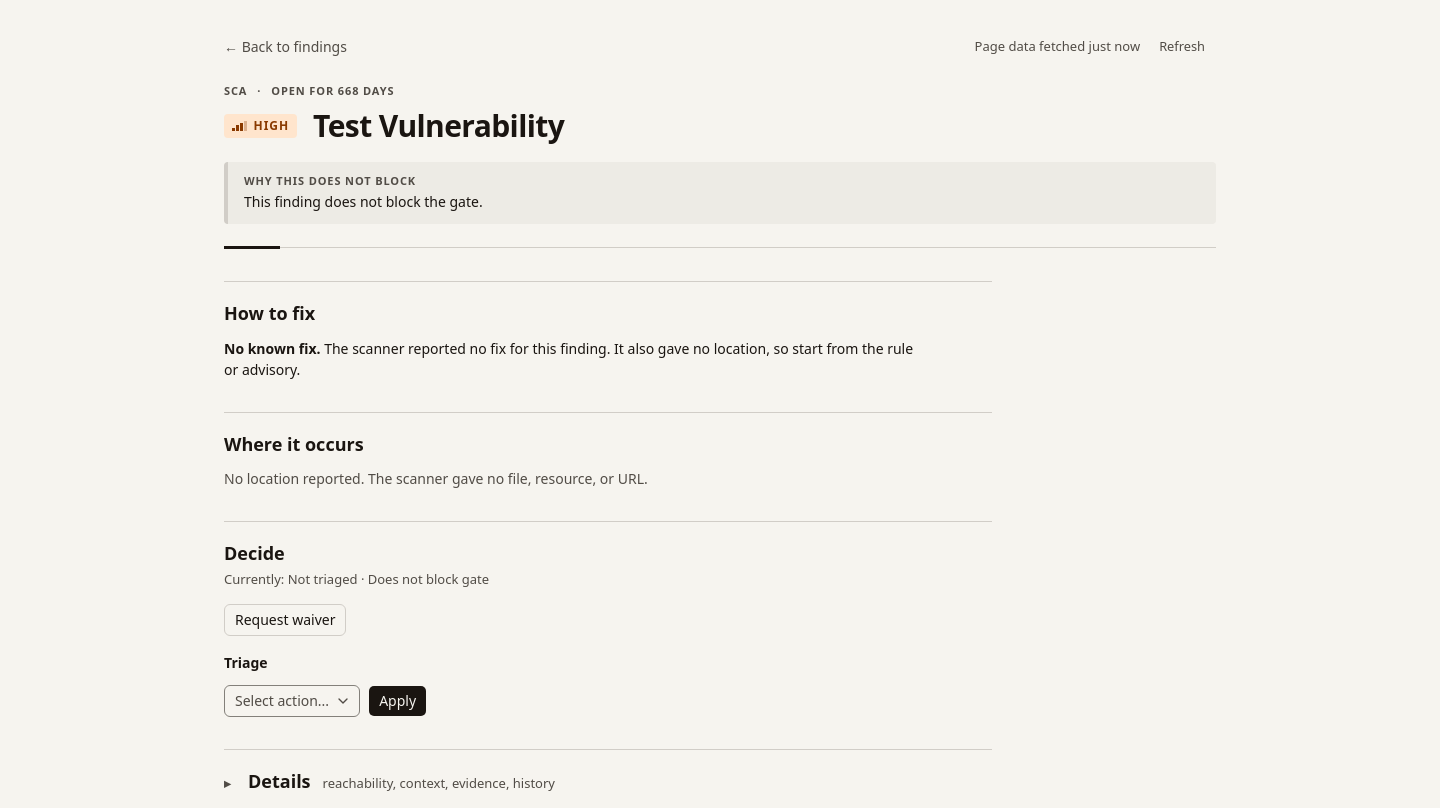
Test: FindingDetail decision flow › confirms a reachability save in a toast and leaves triage untouched
The width and height of the screenshot is (1440, 808).
Expected: the heading "Test Vulnerability" is shown, [313, 109, 564, 142]
Click the button "▸ Details reachability, context, evidence, history".
click(279, 781)  # box [224, 766, 992, 798]
(page scrolled)
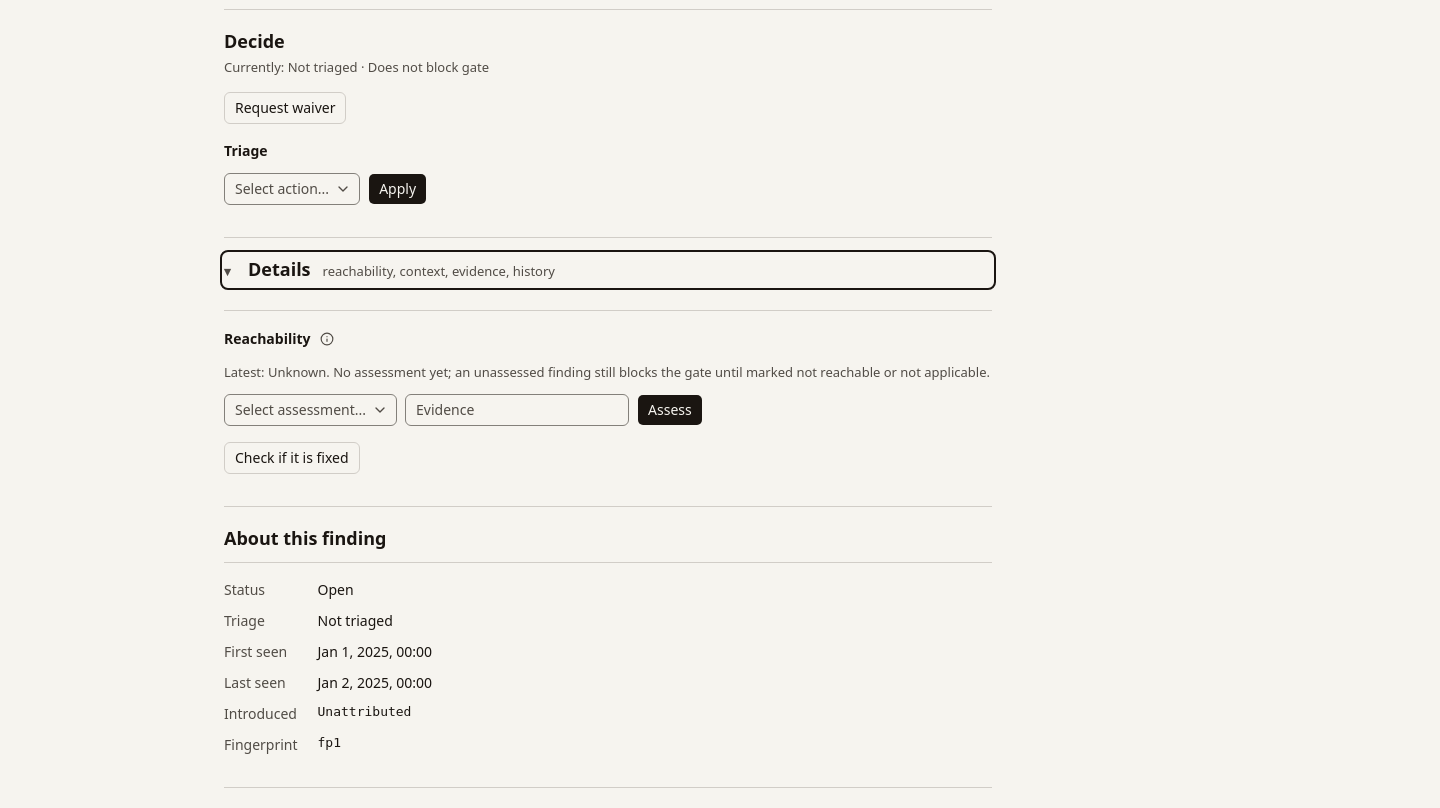
Click the dropdown named "Reachability assessment".
click(310, 410)  # box [224, 394, 397, 426]
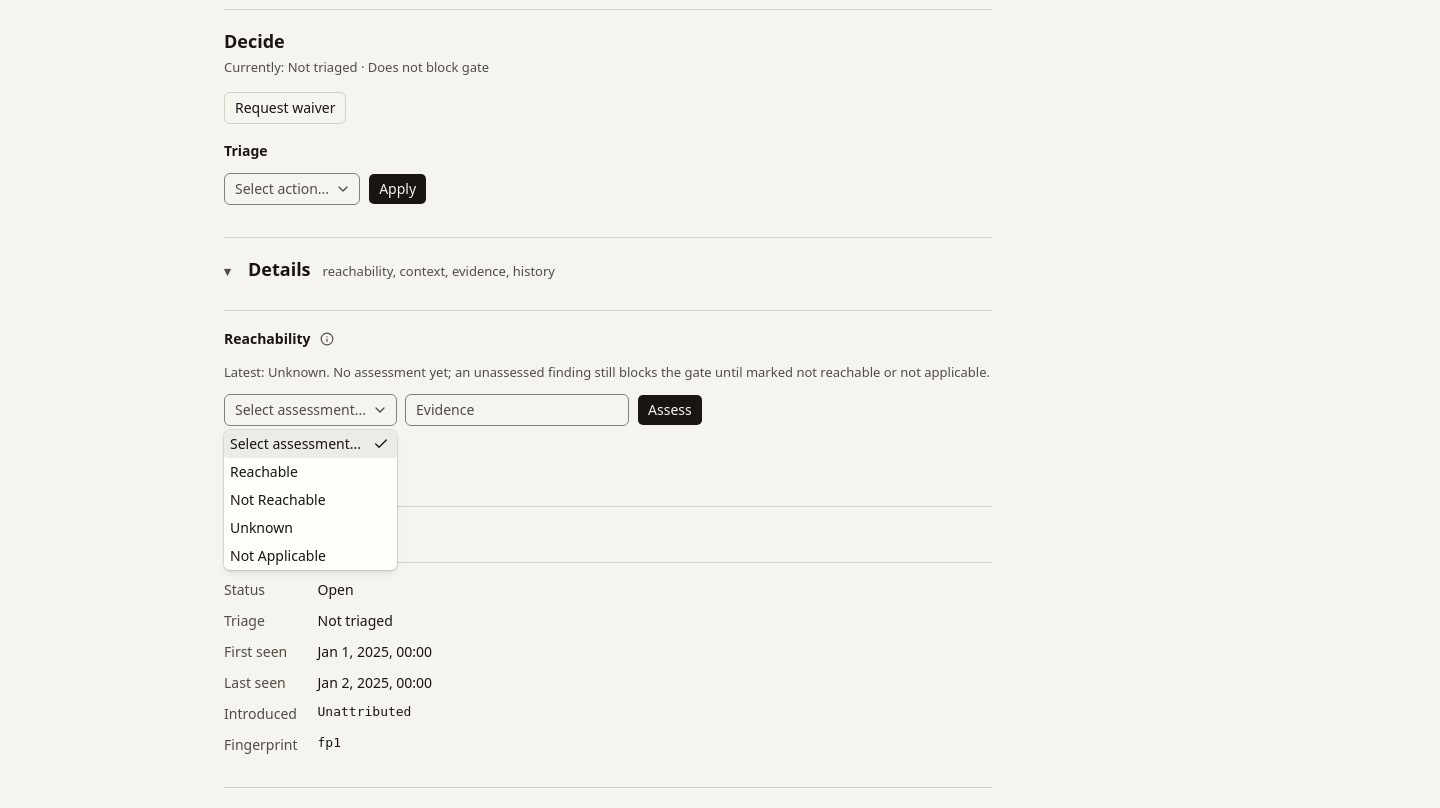
Click the option "Reachable".
click(264, 472)  # box [230, 462, 298, 481]
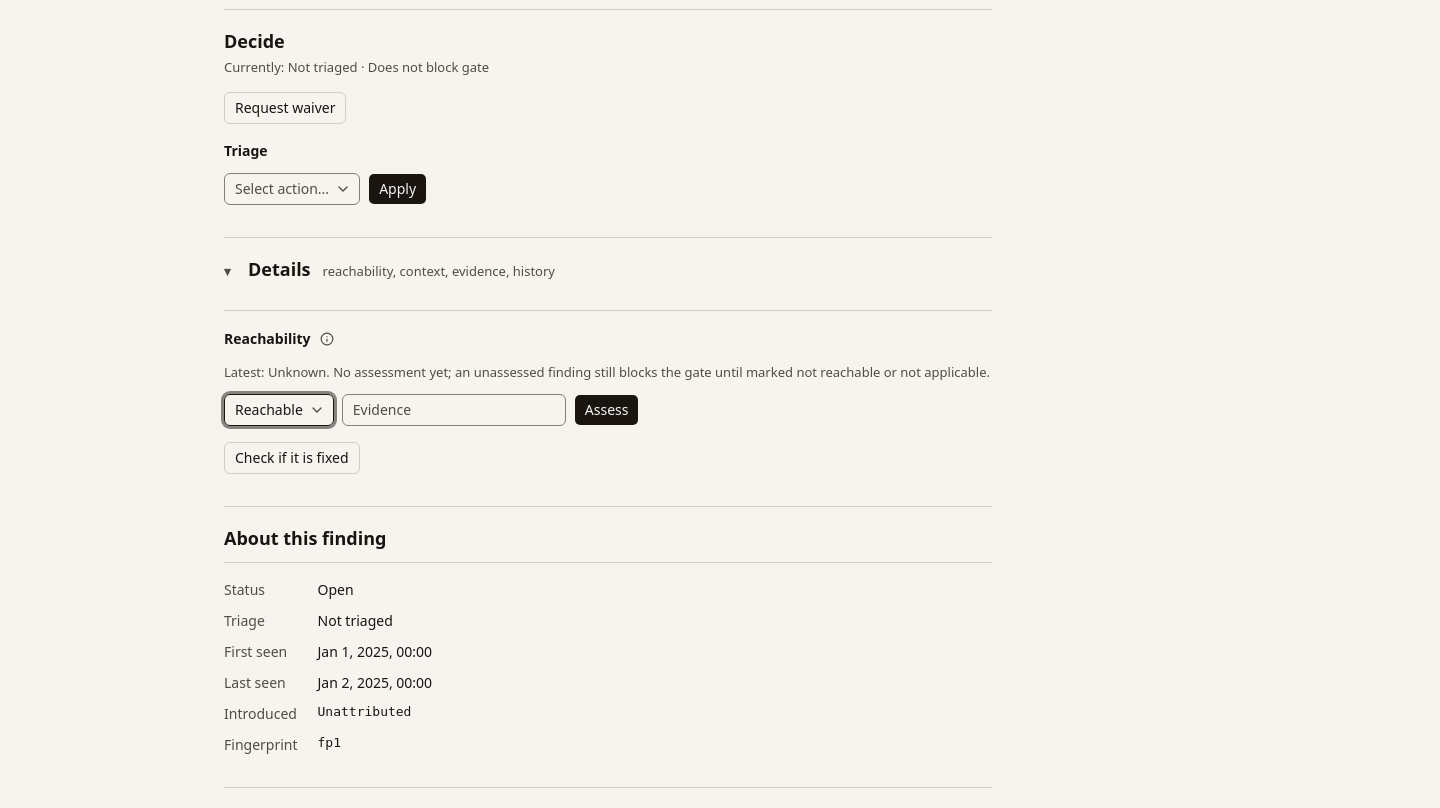
Click the button "Assess".
click(607, 410)  # box [574, 394, 640, 426]
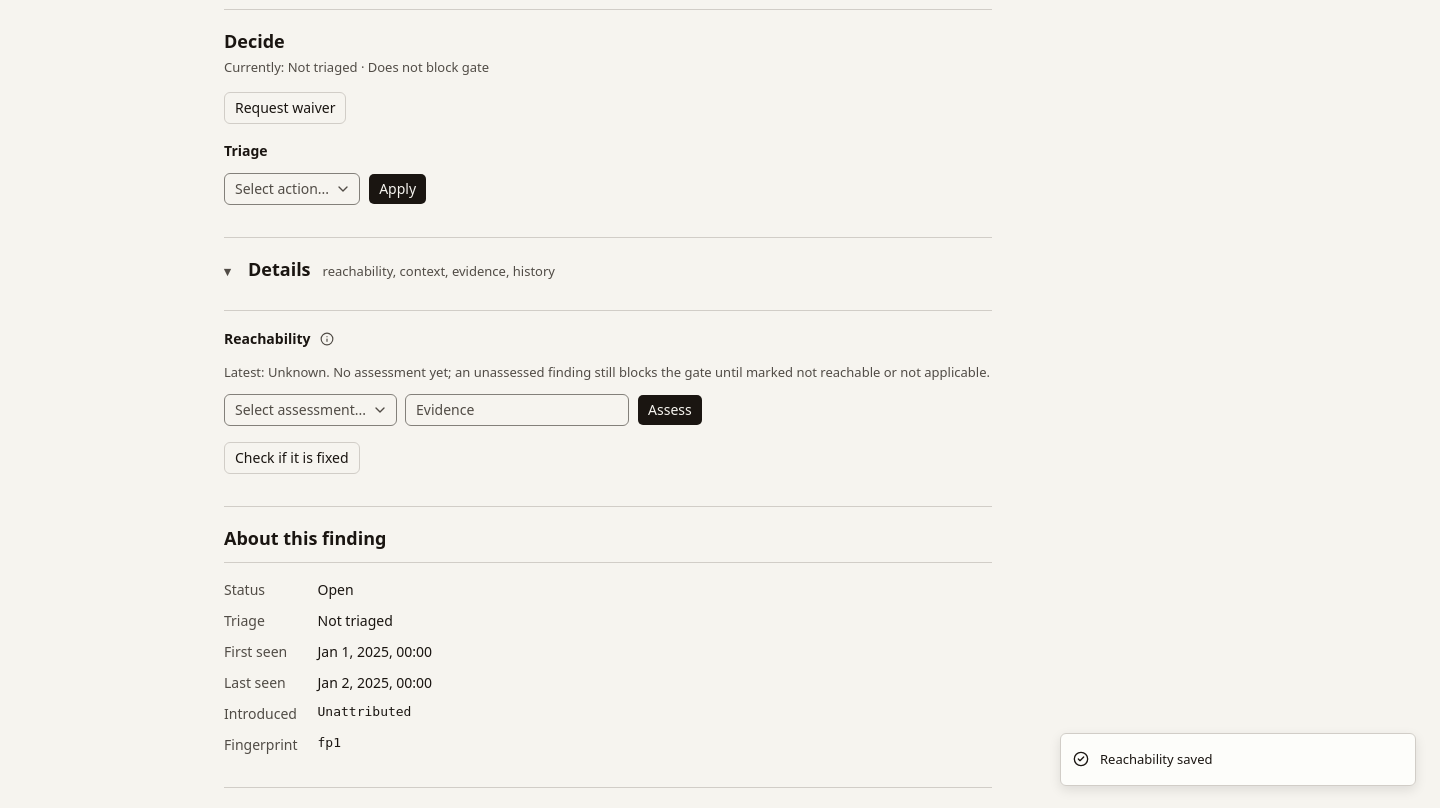
Now the text "Reachability saved" is shown, box [1100, 750, 1212, 769]
